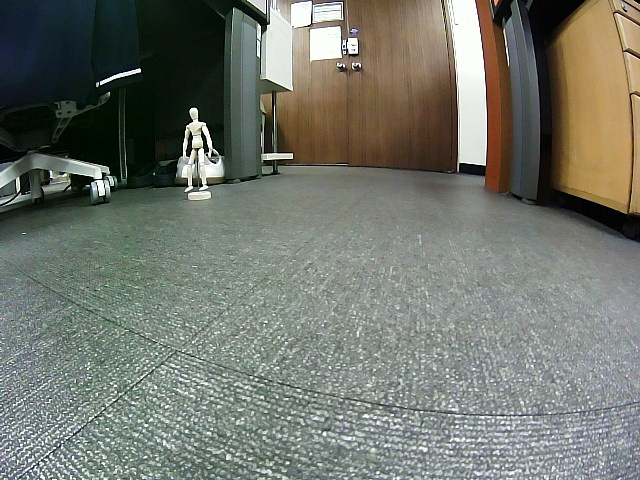person: (183, 107, 212, 191)
